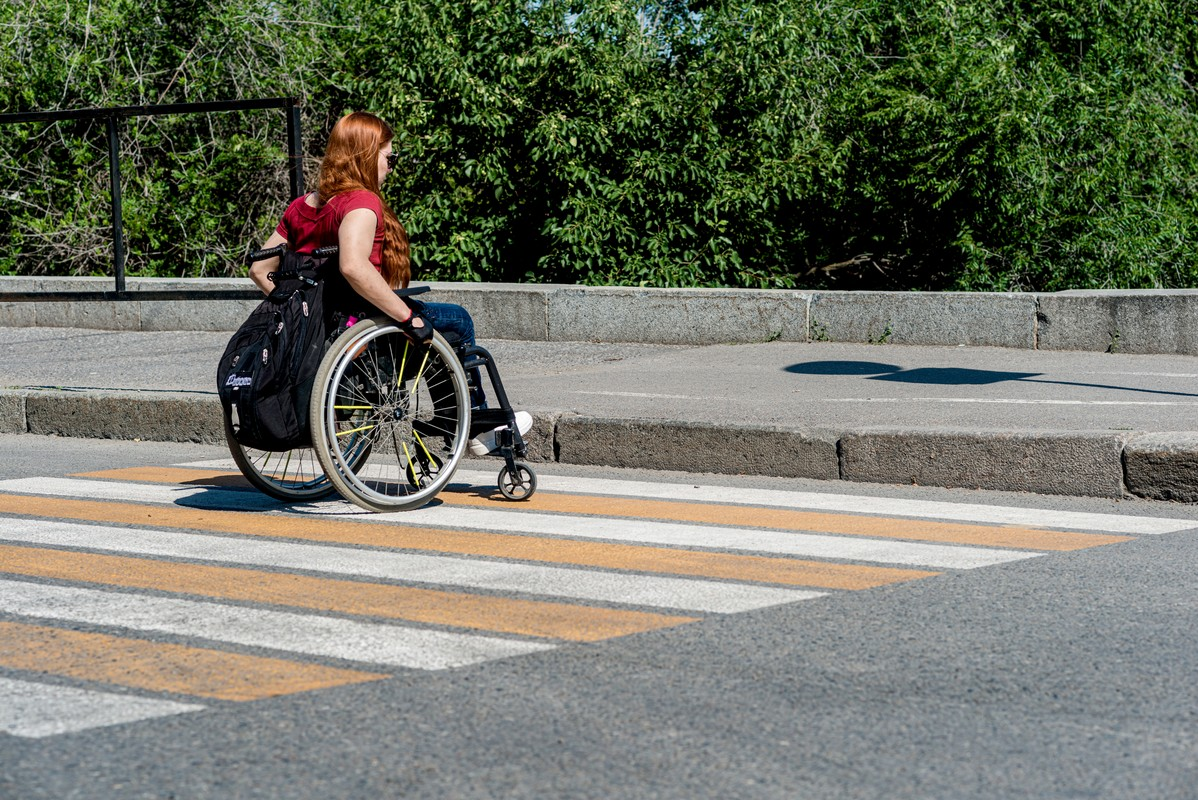person: (263, 110, 443, 312)
